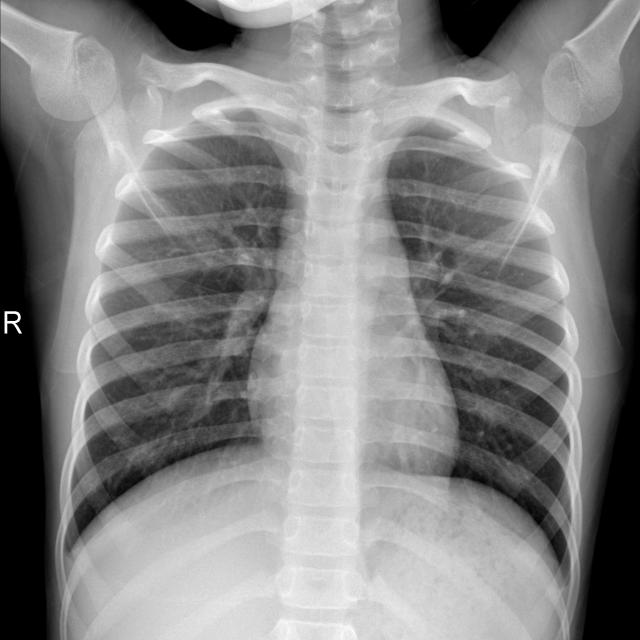no-pneumonia: (68, 102, 293, 539), (388, 118, 582, 596)
